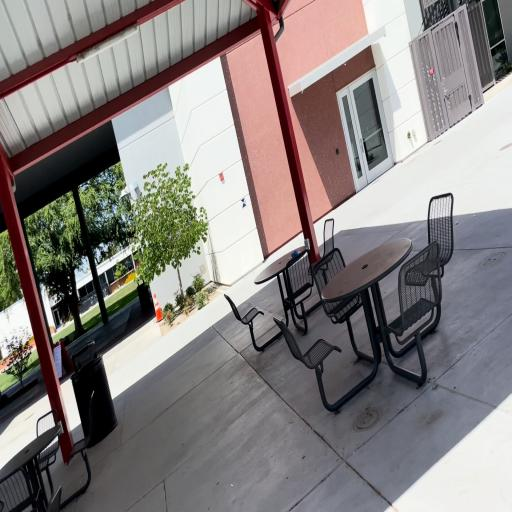target9: (241, 198, 247, 208)
